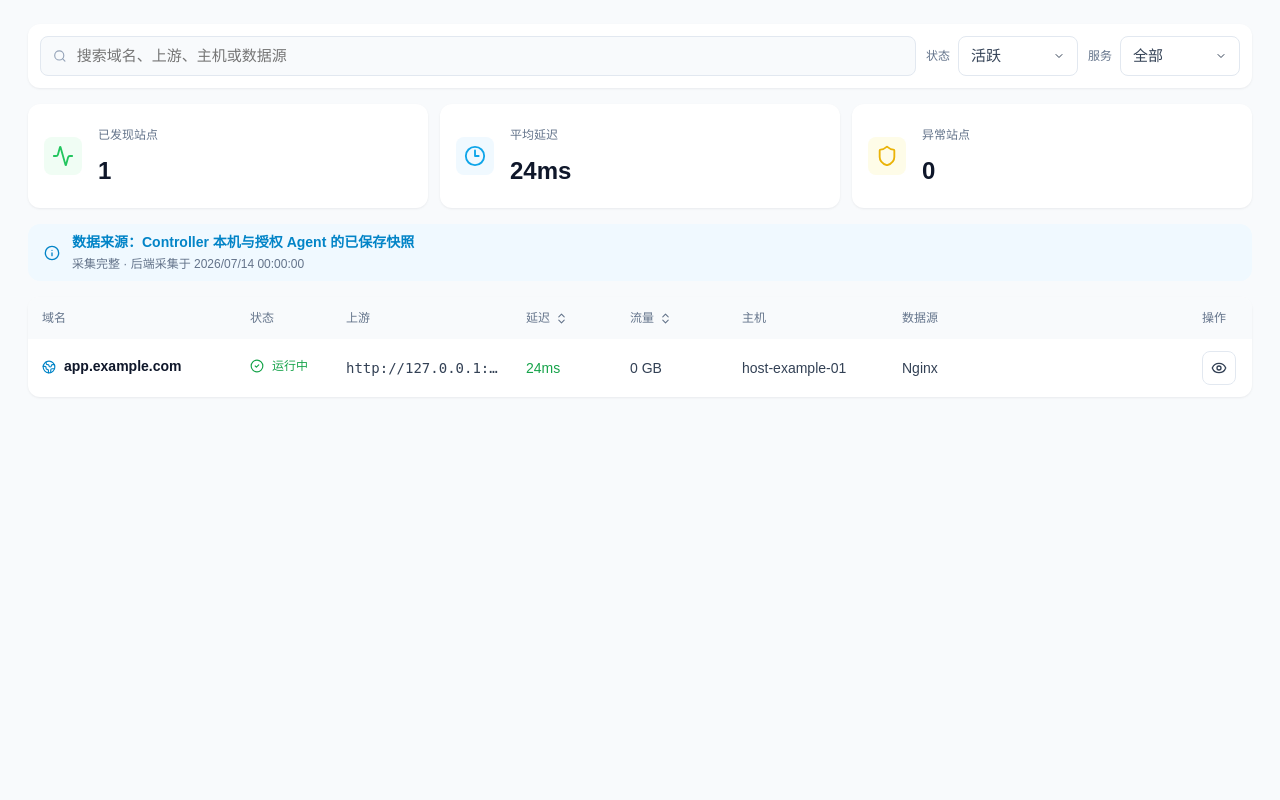
Test: site management UI › shows structured logs returned by the asynchronous operation
Click the button named "查看 app.example.com 站点操作" at (1219, 368), box [1202, 351, 1236, 385]
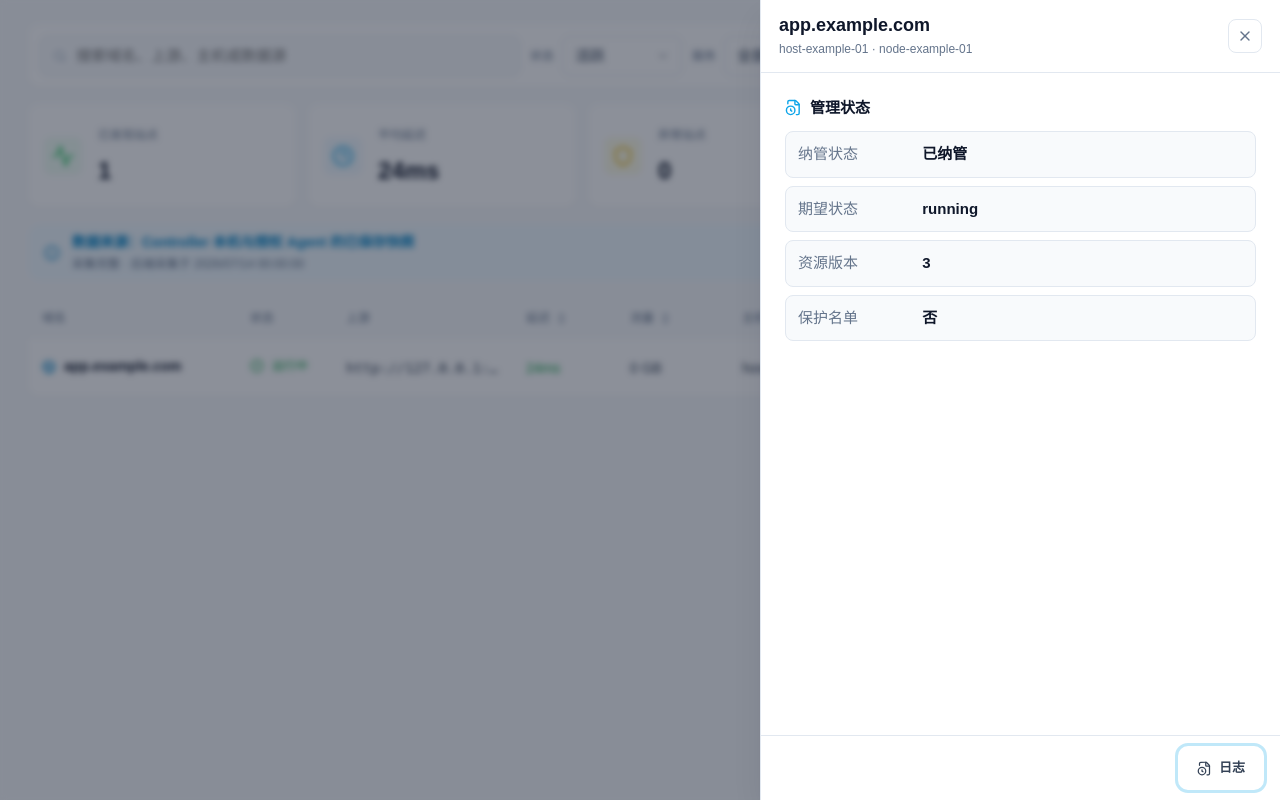
Click the button "日志" at (1221, 768), box [1180, 748, 1262, 788]
Wait 10000 ms
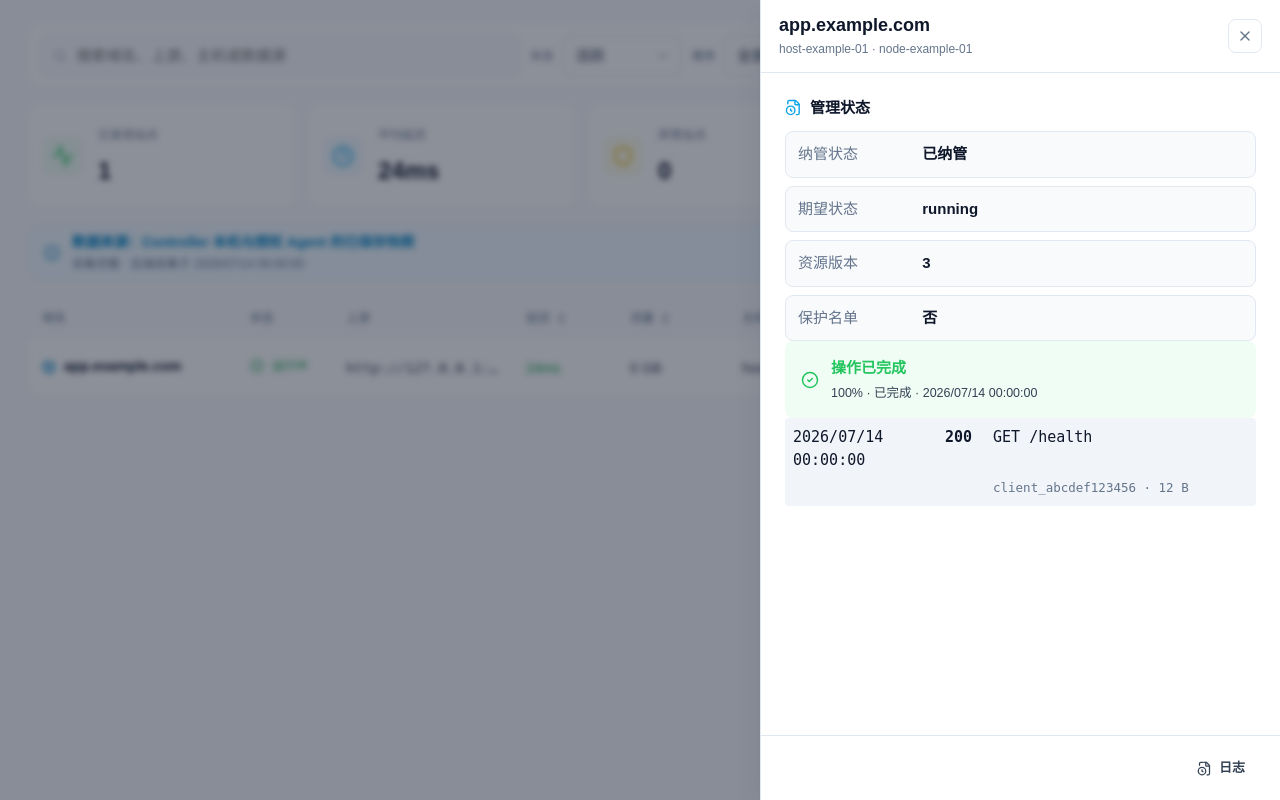
Check: the text "GET /health" is shown, box [993, 428, 1092, 446]
Check: the text "client_abcdef123456 · 12 B" is shown, box [993, 480, 1189, 495]
